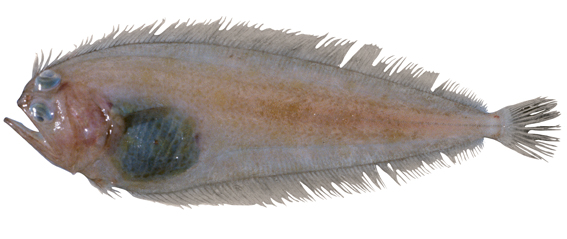fish: (5, 19, 561, 210)
